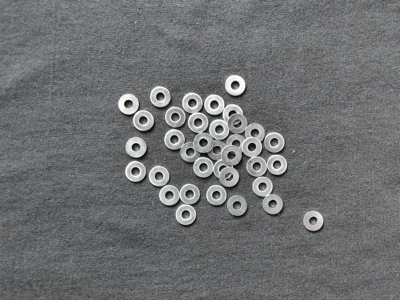circle: (125, 136, 149, 159), (116, 94, 140, 117), (241, 137, 264, 159), (224, 75, 247, 97), (125, 162, 147, 184), (245, 156, 267, 178), (165, 107, 187, 129), (150, 86, 172, 108), (263, 194, 286, 215), (263, 132, 286, 153), (221, 104, 244, 125), (228, 195, 249, 217), (159, 186, 181, 207), (219, 167, 240, 189), (193, 157, 214, 179), (222, 145, 243, 167), (207, 140, 228, 162), (164, 130, 185, 152), (268, 154, 289, 176), (245, 123, 267, 144), (209, 119, 230, 141), (205, 94, 226, 116), (188, 113, 210, 134), (133, 111, 155, 132), (181, 93, 203, 114), (149, 167, 170, 188), (213, 159, 234, 180), (252, 177, 273, 198), (228, 114, 249, 135), (305, 210, 325, 232), (176, 206, 198, 226), (180, 144, 202, 164), (194, 133, 214, 154), (207, 186, 227, 206), (180, 185, 200, 205), (227, 135, 247, 155)
